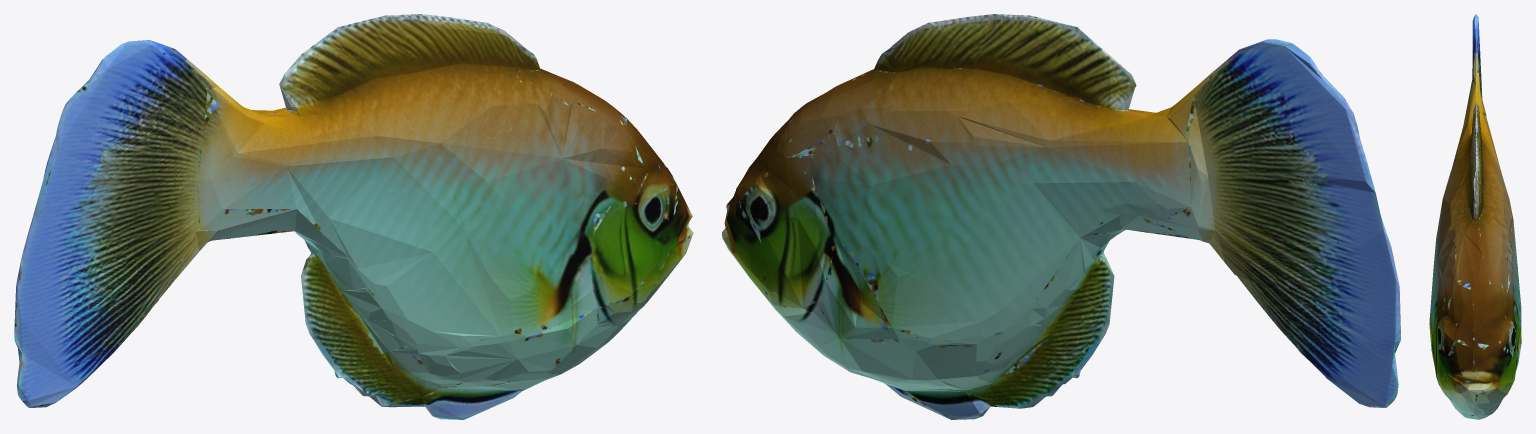
The model's file is fish_0031_smpl23_resized.glb.
The picture shows the model from 3 angles, left to right: view 1: azimuth 30°, elevation 25°; view 2: azimuth 150°, elevation 25°; view 3: azimuth 270°, elevation 25°; orthographic projection. The views are drawn at different scales.
Parts seen in each view (by area): view 1: world; view 2: world; view 3: world.
Boxes of the visible parts, <box> form: world: <box>14,14,693,419</box>; world: <box>722,14,1400,419</box>; world: <box>1429,14,1521,419</box>.
Bounding box in the file's own units: 1.99 × 1.3 × 0.3748.
1 material, 1 textured.
